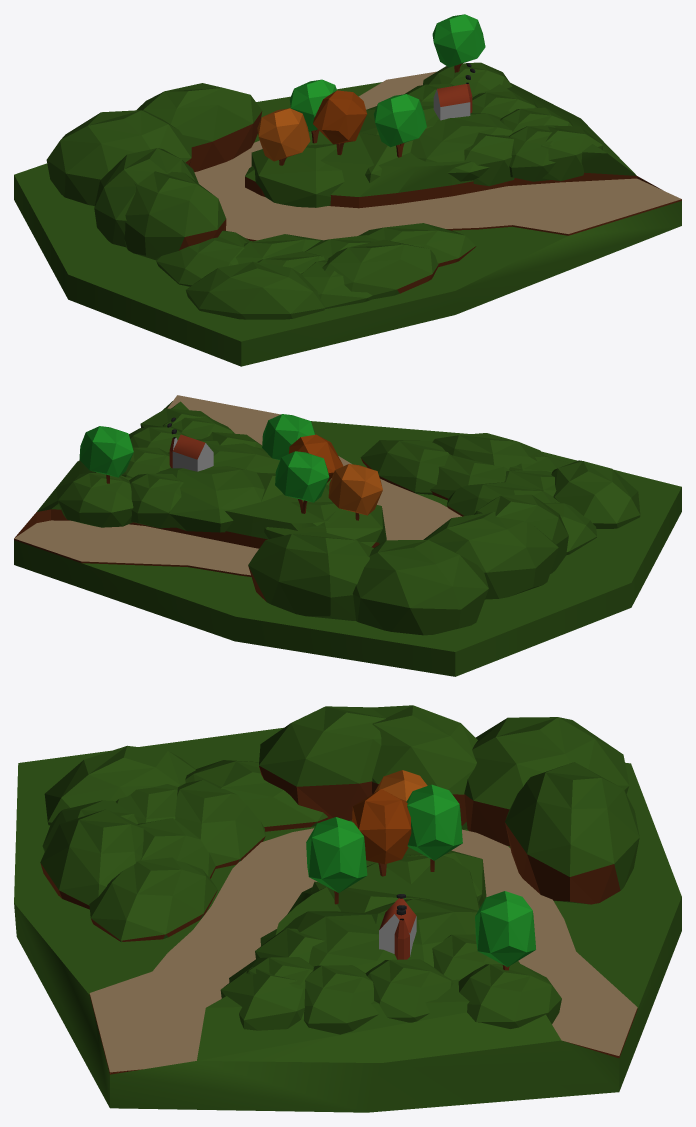
Rendered from Road_1229.obj.
3 renders of one model, top to bottom at view 1: azimuth 30°, elevation 25°; view 2: azimuth 150°, elevation 25°; view 3: azimuth 270°, elevation 25°, orthographic. The views are drawn at different scales.
Parts seen in each view (by area): view 1: GeoSphere022; view 2: GeoSphere022; view 3: GeoSphere022.
Part boxes in pixels (x1,y1,x2,y2): GeoSphere022: [14, 14, 681, 366]; GeoSphere022: [14, 395, 681, 676]; GeoSphere022: [14, 705, 681, 1112].
Bounding box in the file's own units: 225 × 51.07 × 178.
